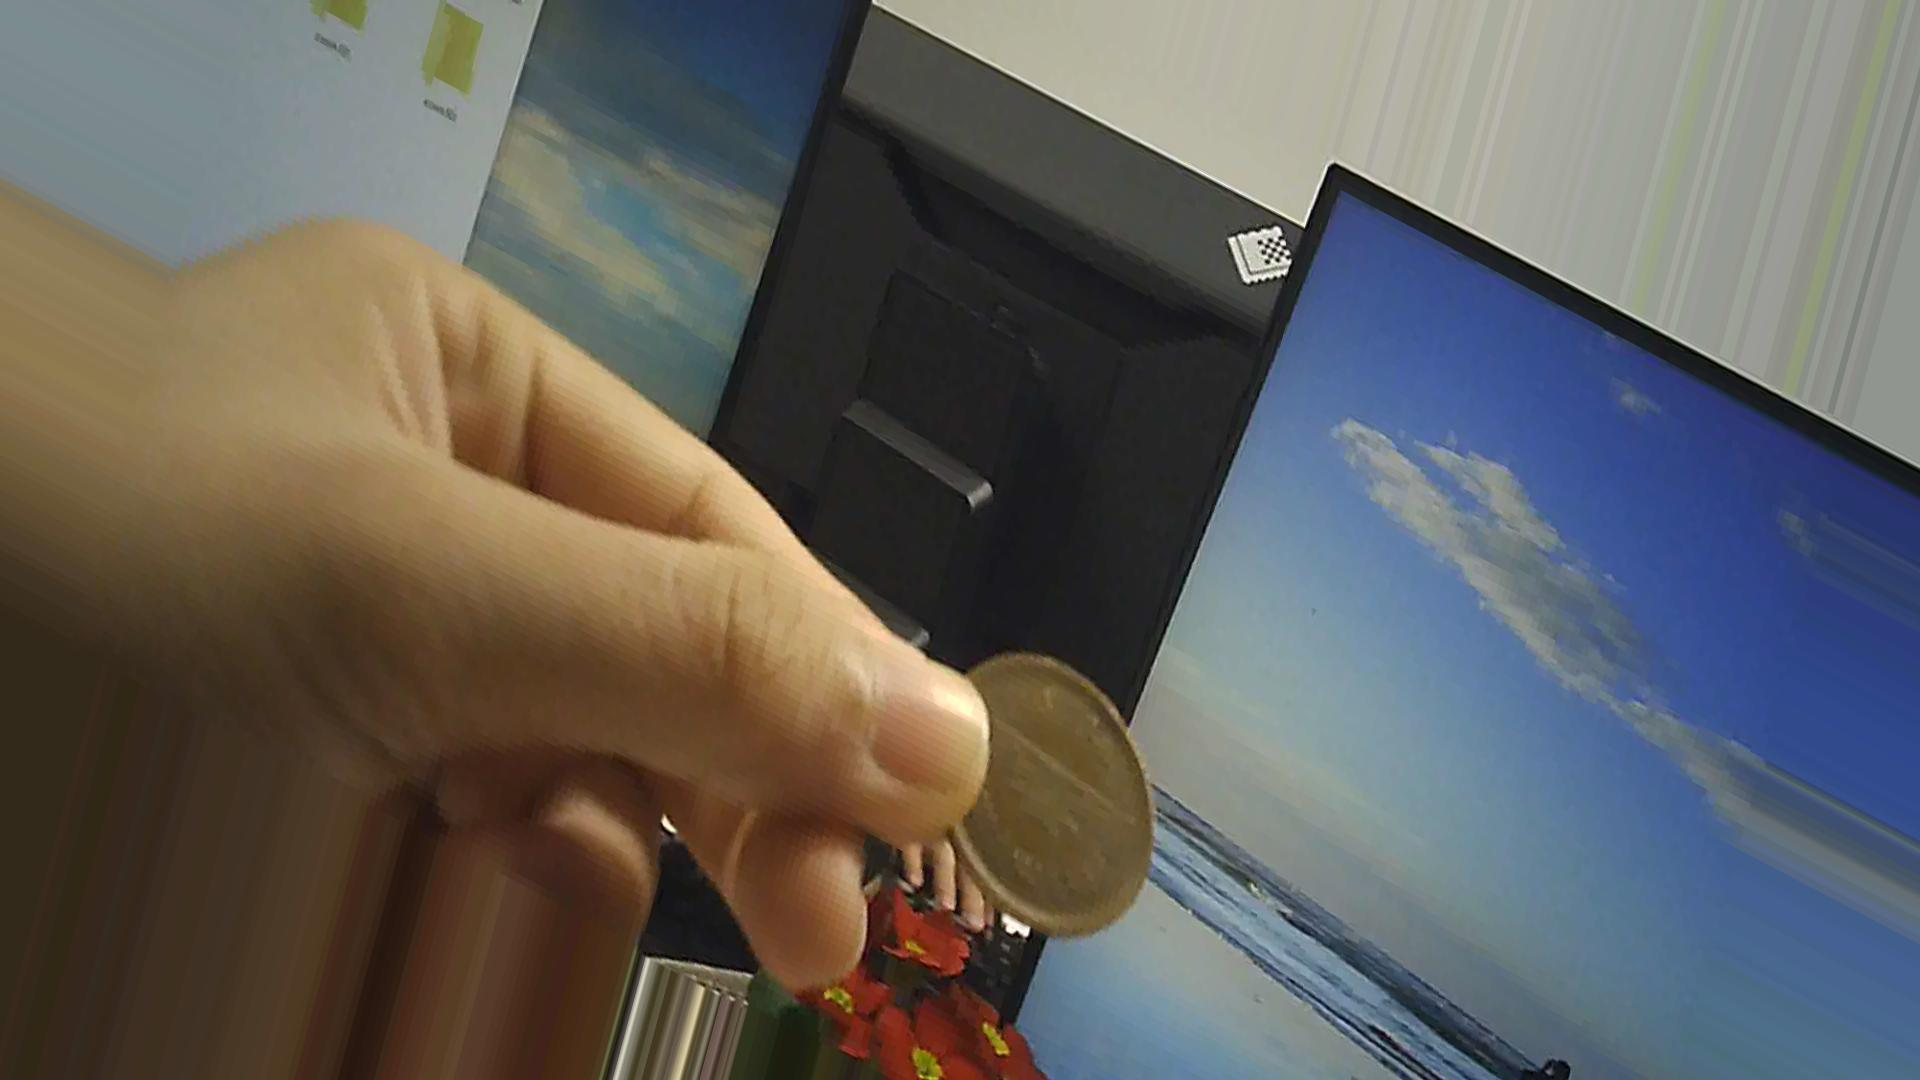10 Yen: (936, 642, 1168, 938)
